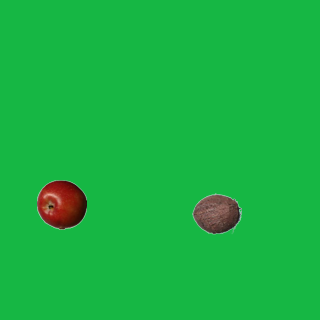Apple Braeburn: (36, 179, 86, 229)
Cocos: (191, 188, 241, 238)
